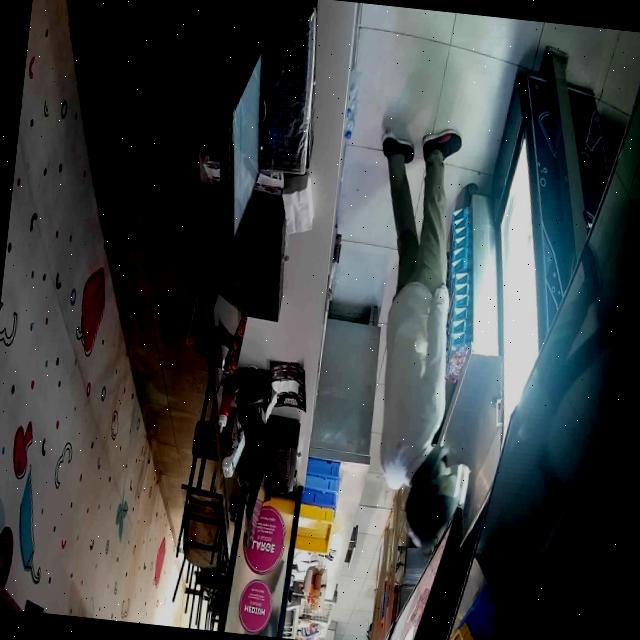helmet: (406, 444, 472, 551)
